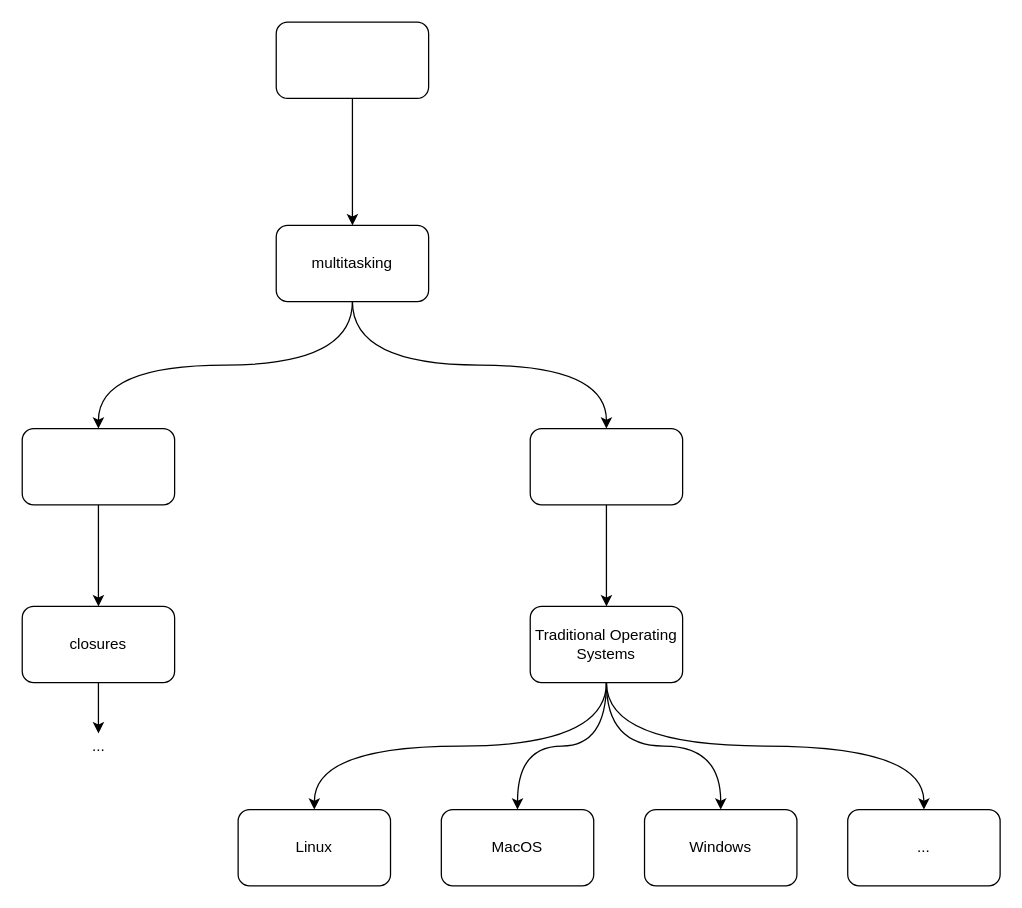
This 1022x908 diagram has some shape labels left out. The shapes that lost their labels are listed below. From the top down, each one's centre as x and y in pixels, then its label:
At (x=352, y=59): "Faking on 1 CPU".
At (x=98, y=466): "closure over execution environment".
At (x=606, y=466): "Multiple CPU Faked Multitasking".
